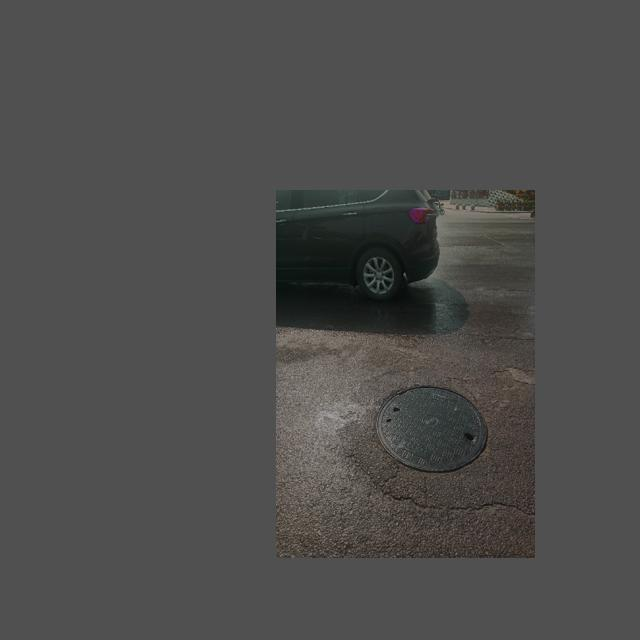good: (377, 384, 488, 471)
